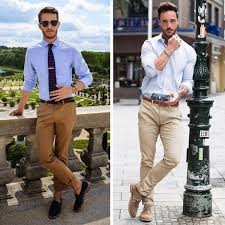F_belt: (139, 94, 178, 108)
F_shirt: (21, 40, 93, 100), (141, 33, 198, 100)
F_tie: (43, 46, 60, 98)
